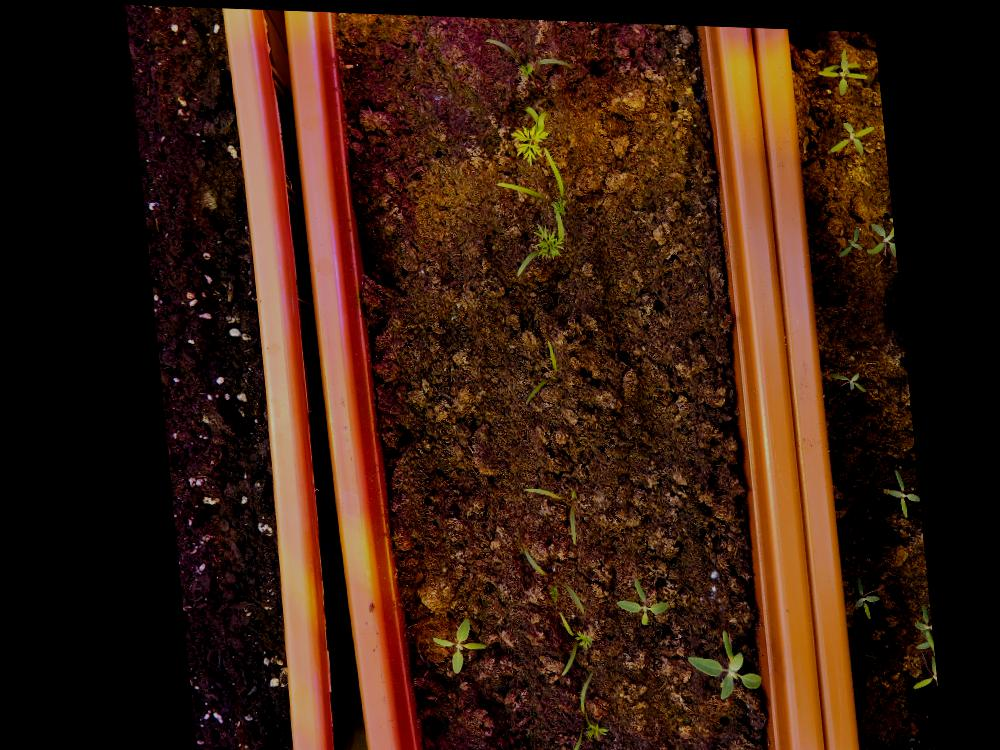weed: (417, 613, 475, 673), (600, 570, 660, 625), (822, 115, 876, 151), (838, 570, 870, 615), (829, 220, 859, 252), (820, 365, 862, 387)
